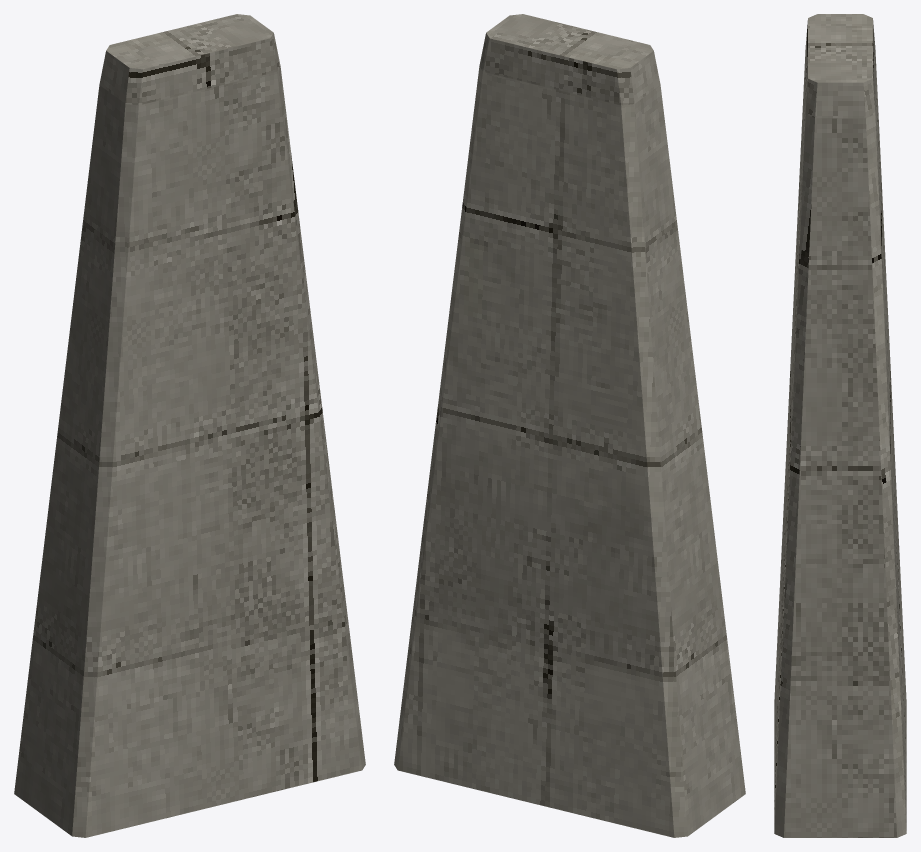
File: bridge_support_alt.glb
3 renders of one model, left to right at view 1: azimuth 30°, elevation 25°; view 2: azimuth 150°, elevation 25°; view 3: azimuth 270°, elevation 25°, orthographic. The views are drawn at different scales.
Visible parts, largest first — view 1: bridge_support_alt; view 2: bridge_support_alt; view 3: bridge_support_alt.
Part boxes in pixels (x1,y1,x2,y2): bridge_support_alt: (14,14,365,837); bridge_support_alt: (394,14,745,837); bridge_support_alt: (774,14,906,837).
Bounding box in the file's own units: 5 × 12 × 2.
Materials: 1 (1 with a texture image).
